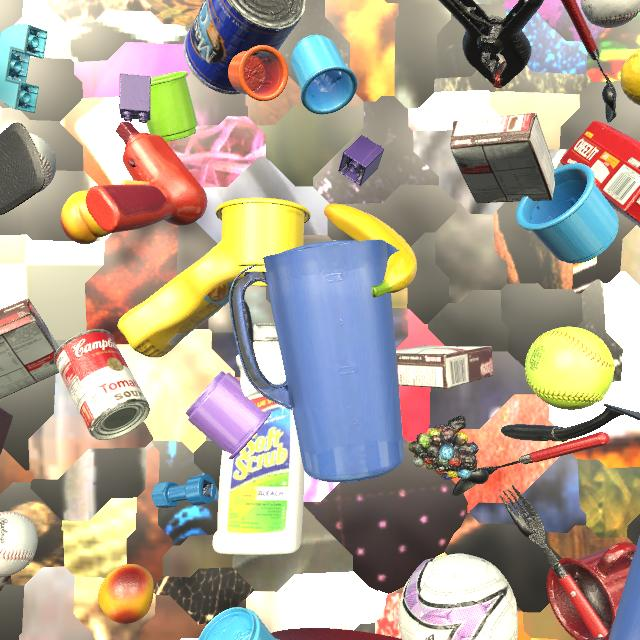ycb_002_master_chef_can: (183, 0, 306, 94)
ycb_003_cracker_box: (560, 120, 640, 227)
ycb_005_tomato_soup_can: (54, 329, 150, 440)
ycb_006_mustard_bottle: (118, 238, 257, 358)
ycb_008_pudding_box: (450, 113, 555, 203), (0, 298, 60, 399), (396, 345, 494, 389), (0, 576, 11, 591)
ycb_011_banana: (324, 204, 417, 298)
ycb_014_lemon: (620, 50, 640, 105)
ycb_015_peach: (98, 564, 154, 624), (60, 191, 110, 245)
